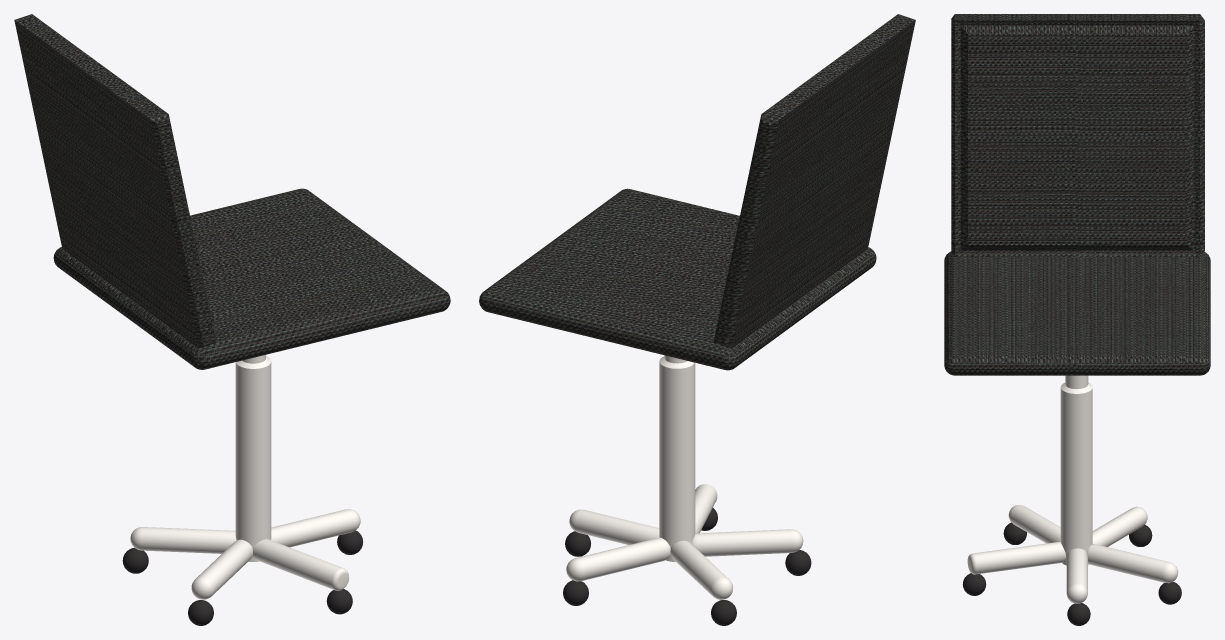
The model's file is bürostuhl.fbx.
The picture shows the model from 3 angles, left to right: view 1: azimuth 30°, elevation 25°; view 2: azimuth 150°, elevation 25°; view 3: azimuth 270°, elevation 25°; orthographic projection. The views are drawn at different scales.
Parts seen in each view (by area): view 1: Würfel_1, Zylinder, Zylinder_4, Zylinder_2, Zylinder_6, Zylinder_3; view 2: Würfel_1, Zylinder, Zylinder_3, Zylinder_5, Zylinder_6, Zylinder_4, Zylinder_2; view 3: Würfel_1, Zylinder, Zylinder_2, Zylinder_5, Zylinder_4, Zylinder_3, Zylinder_6, Kugel, Kugel_2, Kugel_1, Kugel_4.
Part boxes in pixels (<box>): Würfel_1: <box>14,14,450,369</box>; Zylinder: <box>235,355,271,561</box>; Zylinder_4: <box>130,527,236,553</box>; Zylinder_2: <box>252,539,349,590</box>; Zylinder_6: <box>271,509,360,547</box>; Zylinder_3: <box>191,539,252,599</box>; Würfel_1: <box>479,14,915,370</box>; Zylinder: <box>659,355,695,561</box>; Zylinder_3: <box>691,529,803,556</box>; Zylinder_5: <box>566,537,670,581</box>; Zylinder_6: <box>569,509,659,544</box>; Zylinder_4: <box>670,540,733,599</box>; Zylinder_2: <box>695,484,717,533</box>; Würfel_1: <box>944,14,1210,375</box>; Zylinder: <box>1060,375,1092,565</box>; Zylinder_2: <box>967,541,1065,574</box>; Zylinder_5: <box>1086,544,1178,583</box>; Zylinder_4: <box>1092,506,1147,546</box>; Zylinder_3: <box>1008,505,1060,543</box>; Zylinder_6: <box>1066,548,1087,603</box>; Kugel: <box>1067,603,1090,625</box>; Kugel_2: <box>1158,581,1181,604</box>; Kugel_1: <box>962,573,986,595</box>; Kugel_4: <box>1003,522,1026,544</box>.
Bounding box in the file's own units: 57.94 × 102 × 50.
3 materials, 1 textured.
